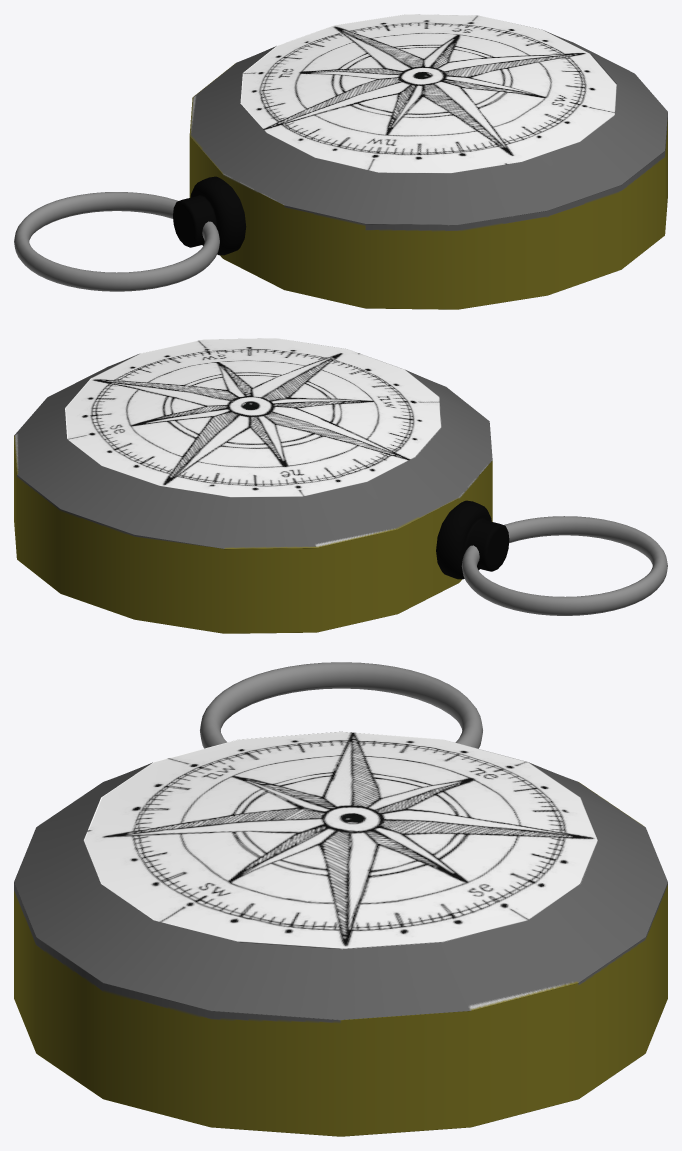
File: Boussole_.fbx
The picture shows the model from 3 angles, top to bottom: view 1: azimuth 30°, elevation 25°; view 2: azimuth 150°, elevation 25°; view 3: azimuth 270°, elevation 25°; orthographic projection. The views are drawn at different scales.
Visible parts, largest first — view 1: Boussole_LP; view 2: Boussole_LP; view 3: Boussole_LP.
Boxes of the visible parts, x1,y1,x2,y2 form: Boussole_LP: (14, 14, 667, 309); Boussole_LP: (14, 338, 667, 633); Boussole_LP: (14, 662, 667, 1136).
Bounding box in the file's own units: 270 × 55.73 × 183.
1 material, 1 textured.
